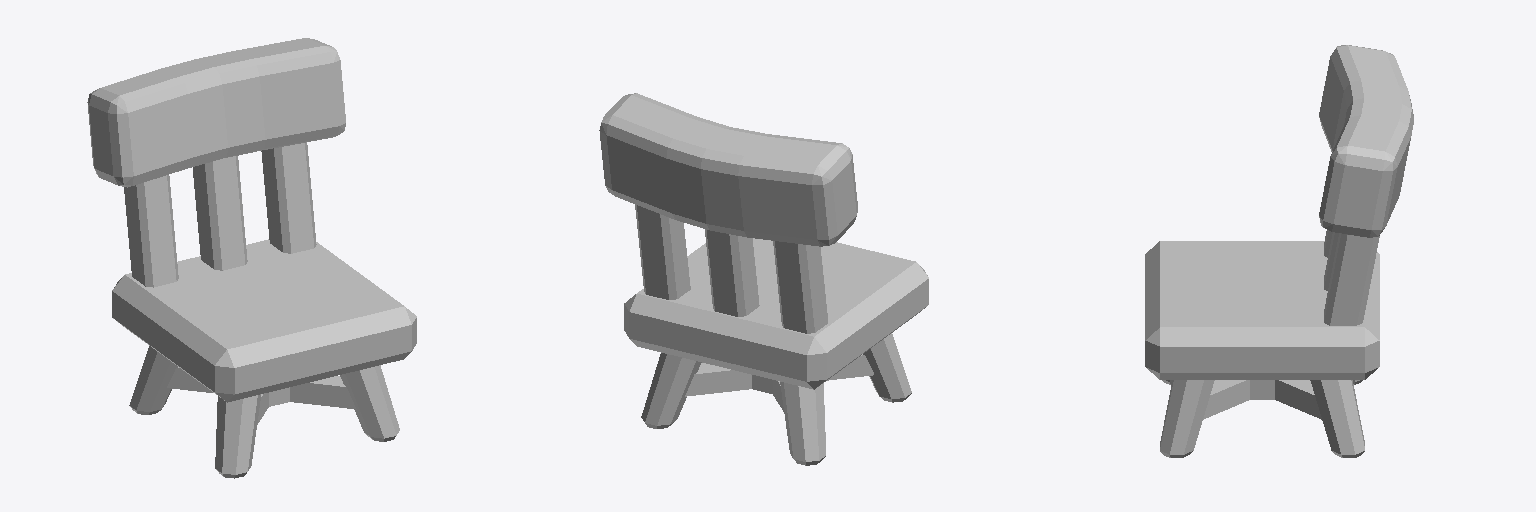
File: chair.obj
The picture shows the model from 3 angles: view 1: azimuth 30°, elevation 25°; view 2: azimuth 150°, elevation 25°; view 3: azimuth 270°, elevation 25°; orthographic projection.
Visible parts, largest first — view 1: chair; view 2: chair; view 3: chair.
Boxes of the visible parts, x1,y1,x2,y2 form: chair: [87, 38, 416, 478]; chair: [599, 93, 928, 465]; chair: [1145, 45, 1413, 457].
Size of the model in its own units: 0.9128 by 1.21 by 0.9191.